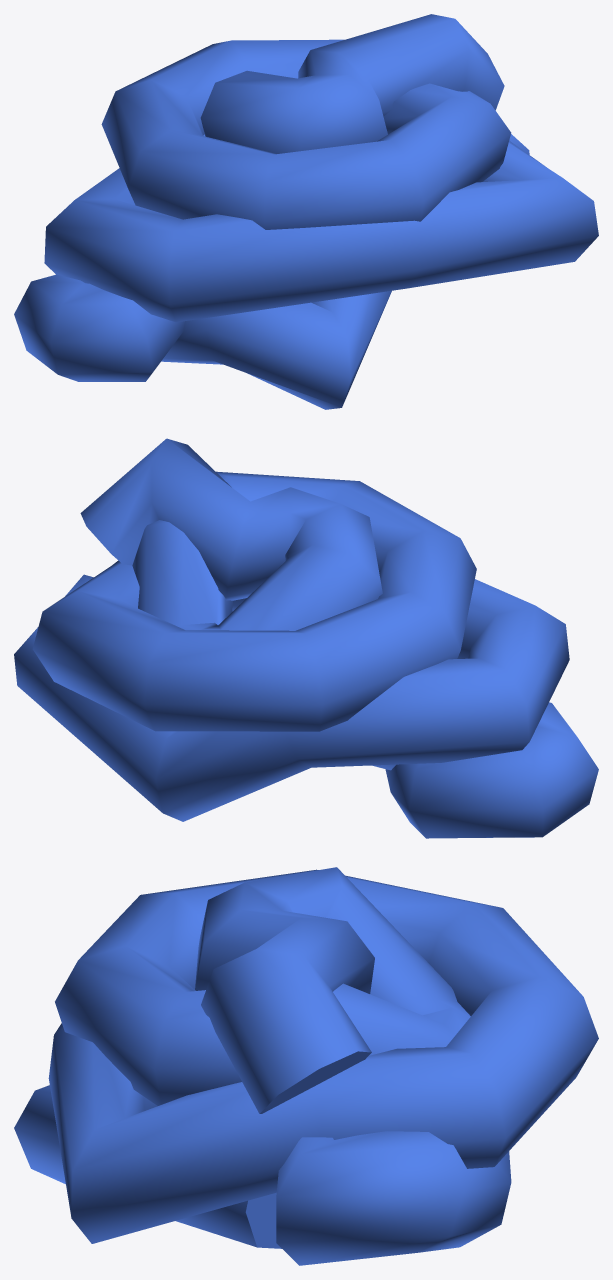
Rendered from noodles.fbx.
The picture shows the model from 3 angles, top to bottom: view 1: azimuth 30°, elevation 25°; view 2: azimuth 150°, elevation 25°; view 3: azimuth 270°, elevation 25°; orthographic projection. The views are drawn at different scales.
Parts seen in each view (by area): view 1: noodles; view 2: noodles; view 3: noodles.
Part boxes in pixels (box(x1,y1,x2,y2)): noodles: box(14, 14, 598, 409); noodles: box(14, 438, 598, 838); noodles: box(14, 867, 598, 1265).
Size of the model in its own units: 1468 by 1008 by 1798.
